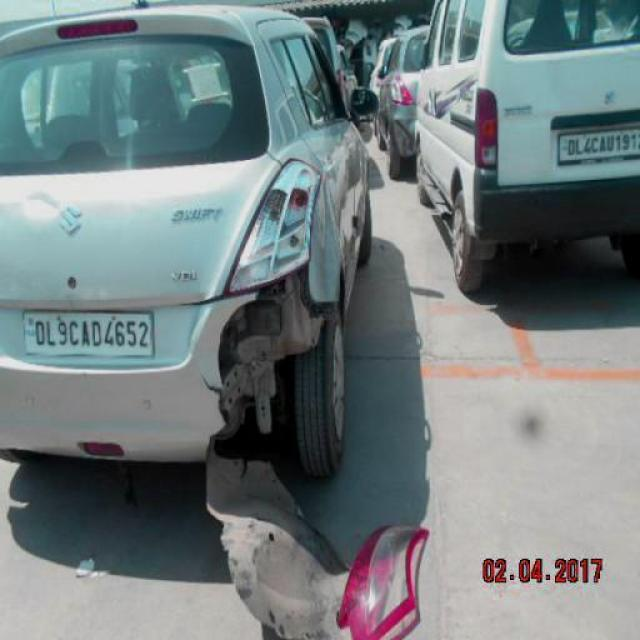Car-Damage: (185, 265, 322, 452), (223, 159, 321, 292), (19, 189, 62, 228)
